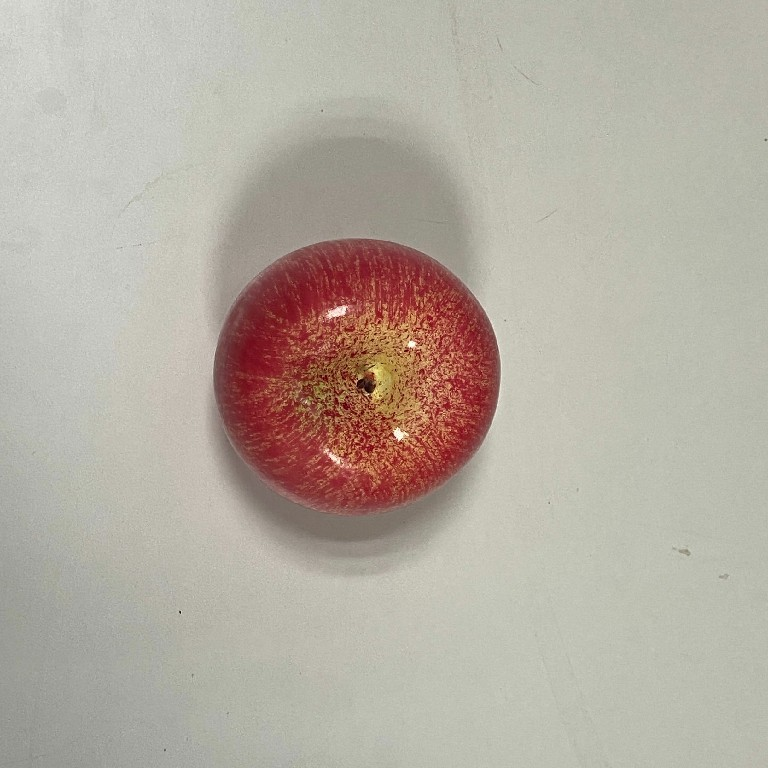fruit_apple: (207, 235, 507, 521)
